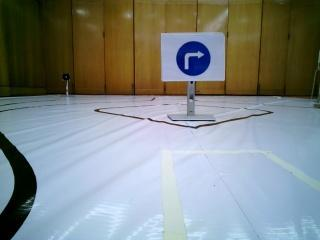right: (162, 32, 223, 81)
